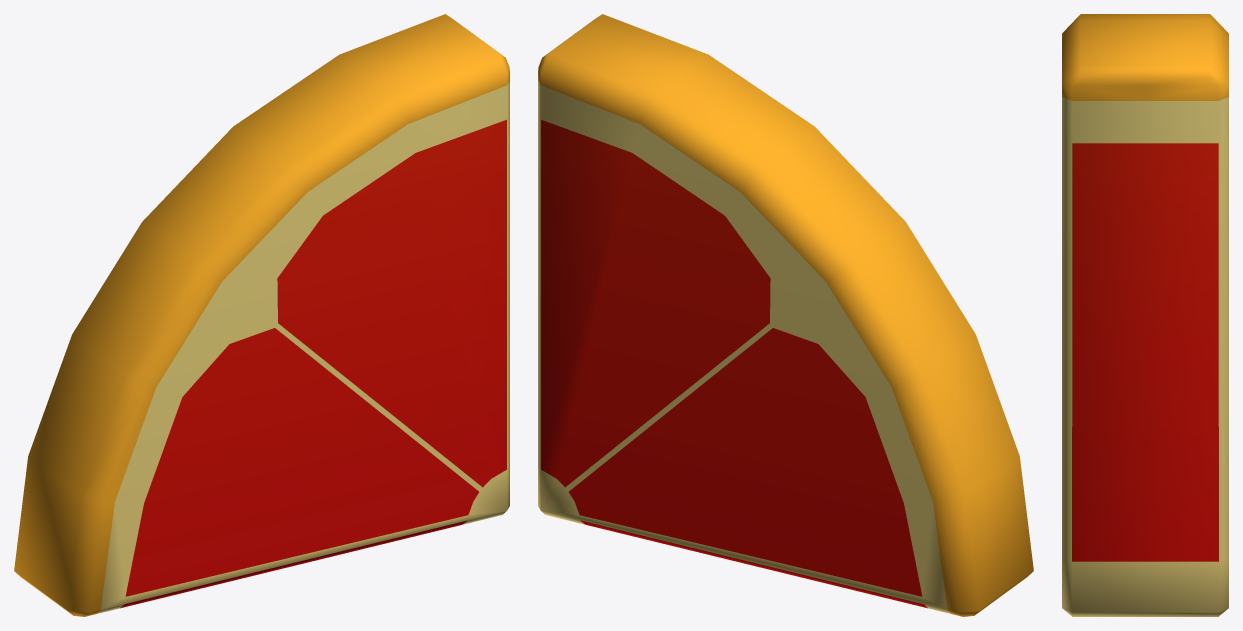
File: Quarter_of_a_orange_red.fbx
3 views of the same model, side by side, from view 1: azimuth 30°, elevation 25°; view 2: azimuth 150°, elevation 25°; view 3: azimuth 270°, elevation 25° (orthographic). The views are drawn at different scales.
Visible parts, largest first — view 1: Quarter_of_a_orange_red; view 2: Quarter_of_a_orange_red; view 3: Quarter_of_a_orange_red.
Part boxes in pixels (x1,y1,x2,y2): Quarter_of_a_orange_red: (14, 14, 509, 616); Quarter_of_a_orange_red: (538, 14, 1033, 616); Quarter_of_a_orange_red: (1062, 14, 1228, 616).
Size of the model in its own units: 62.68 by 62.72 by 17.19.
